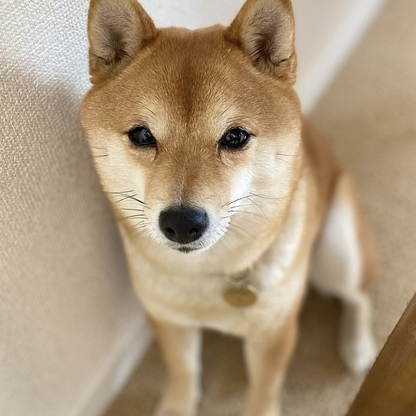shiba: (66, 1, 388, 416)
